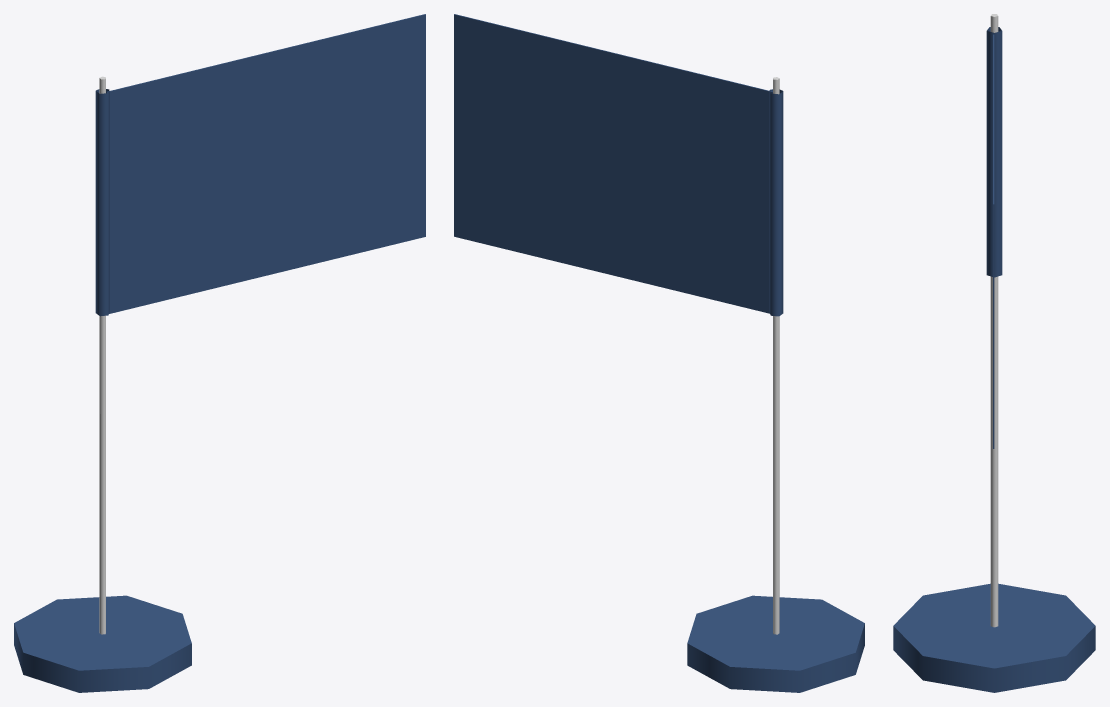
The model's file is FlagMiniA.FBX.
3 renders of one model, left to right at view 1: azimuth 30°, elevation 25°; view 2: azimuth 150°, elevation 25°; view 3: azimuth 270°, elevation 25°, orthographic. The views are drawn at different scales.
Parts seen in each view (by area): view 1: flagMiniA, flagMiniBaseA, flagMiniPoleA; view 2: flagMiniA, flagMiniBaseA, flagMiniPoleA; view 3: flagMiniBaseA, flagMiniA, flagMiniPoleA.
Boxes of the visible parts, bbox=[...] form: flagMiniA: bbox=[95, 14, 425, 316]; flagMiniBaseA: bbox=[14, 595, 191, 692]; flagMiniPoleA: bbox=[99, 76, 105, 634]; flagMiniA: bbox=[454, 14, 783, 316]; flagMiniBaseA: bbox=[687, 595, 864, 692]; flagMiniPoleA: bbox=[773, 77, 779, 634]; flagMiniBaseA: bbox=[893, 583, 1095, 692]; flagMiniA: bbox=[986, 27, 1002, 448]; flagMiniPoleA: bbox=[990, 14, 998, 627].
Bounding box in the file's own units: 0.0378 × 0.0519 × 0.015.
